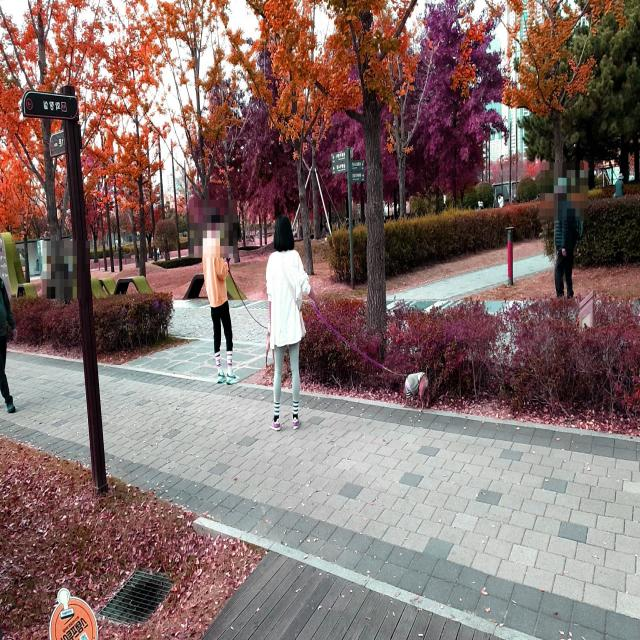Leashed_Dog: (293, 294, 430, 410)
